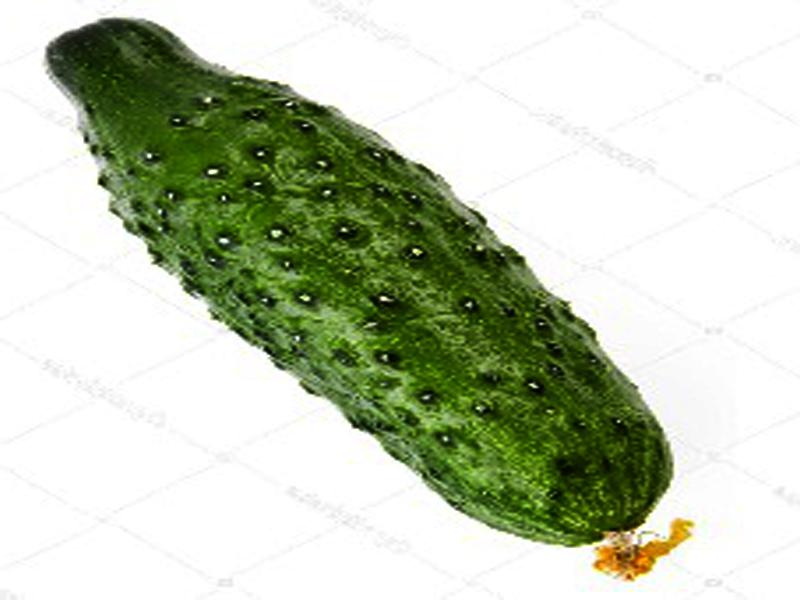Cucumber: (45, 21, 690, 579)
